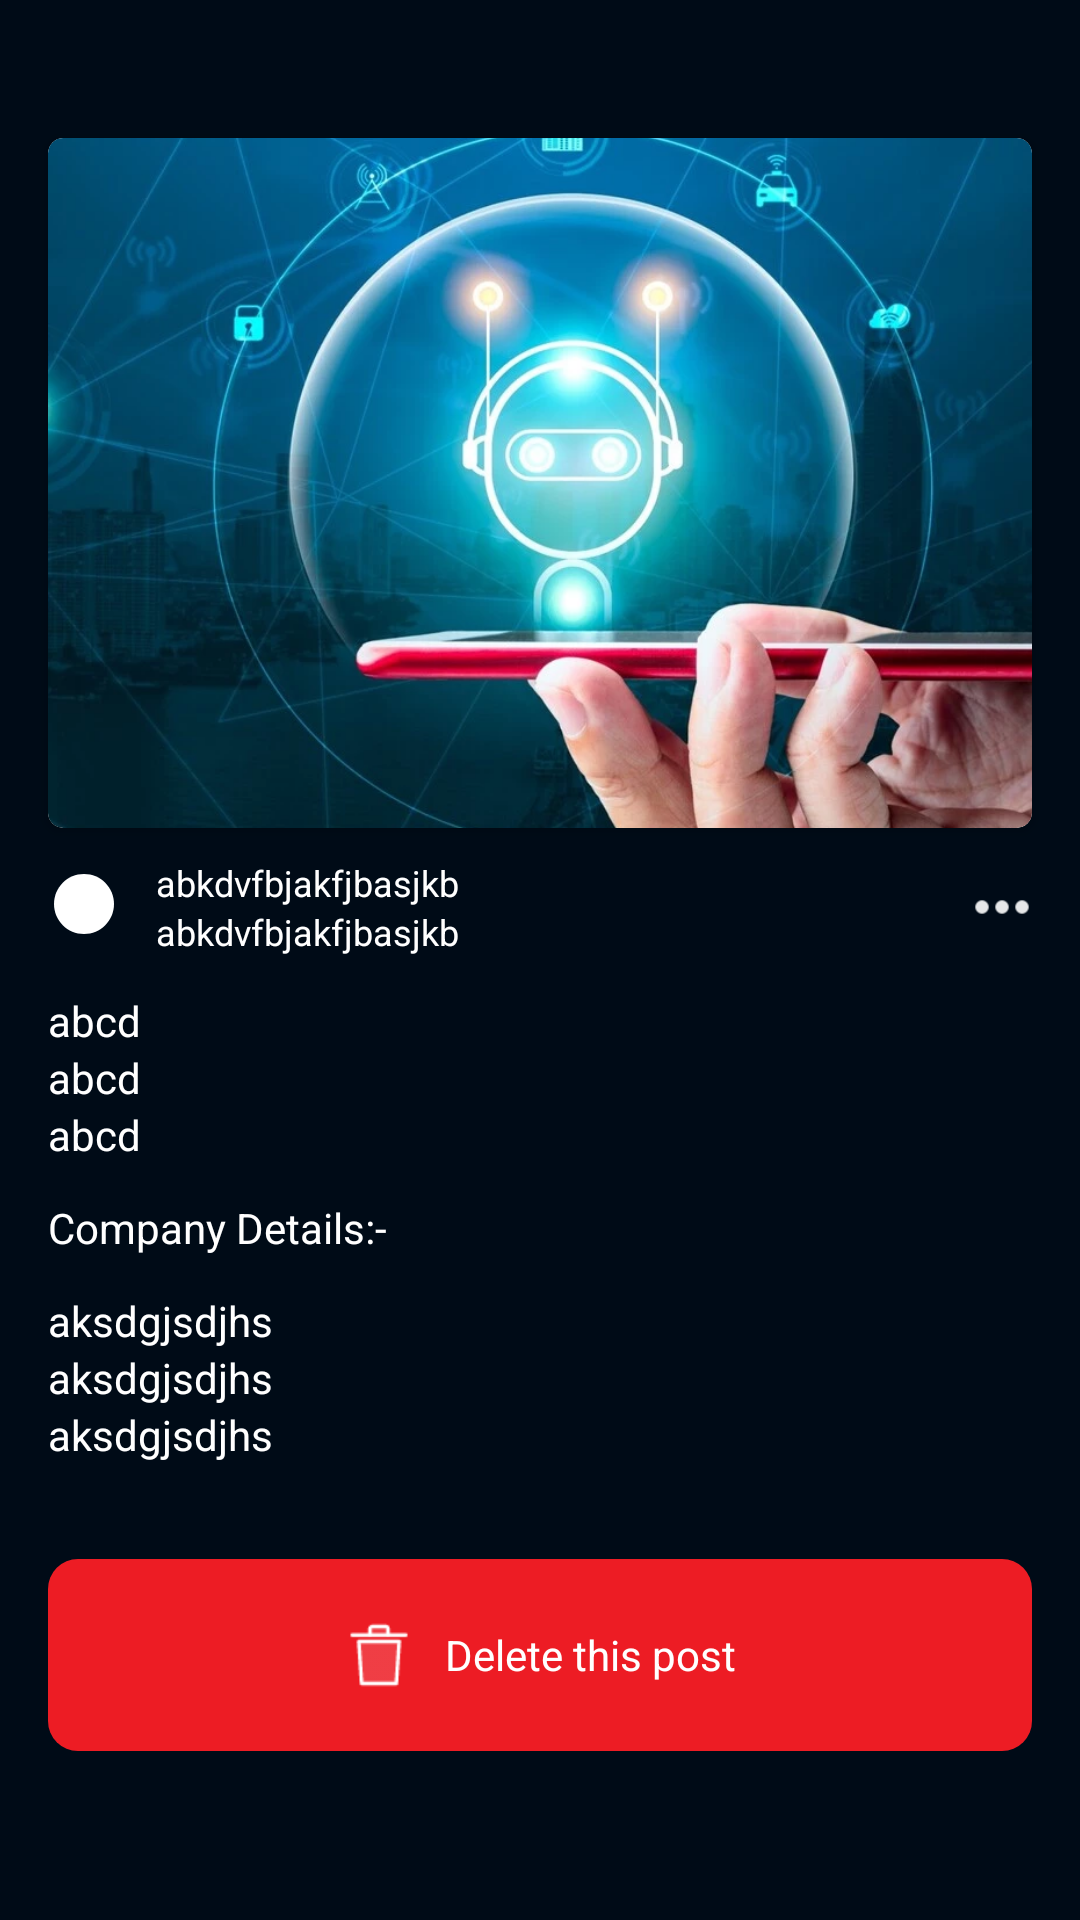

Icon click points for this 1080 x 1920 phone screenshot, format [x,y]:
dots: [1002,907]
trash: [379,1655]
